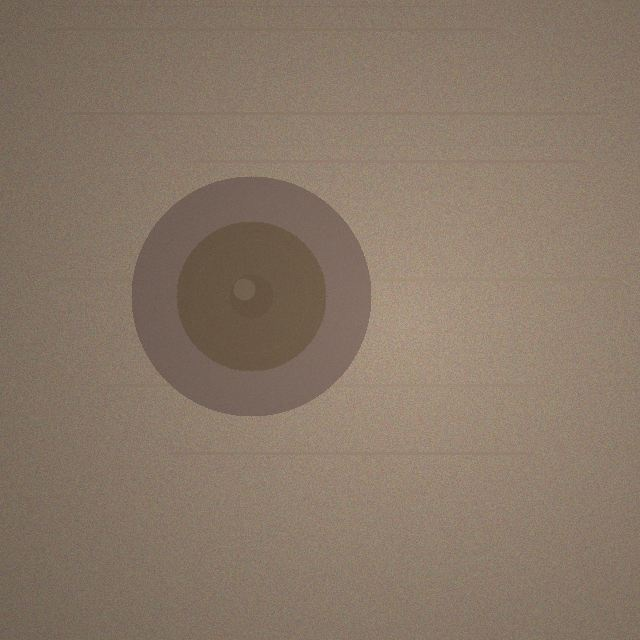good: (131, 176, 371, 416)
